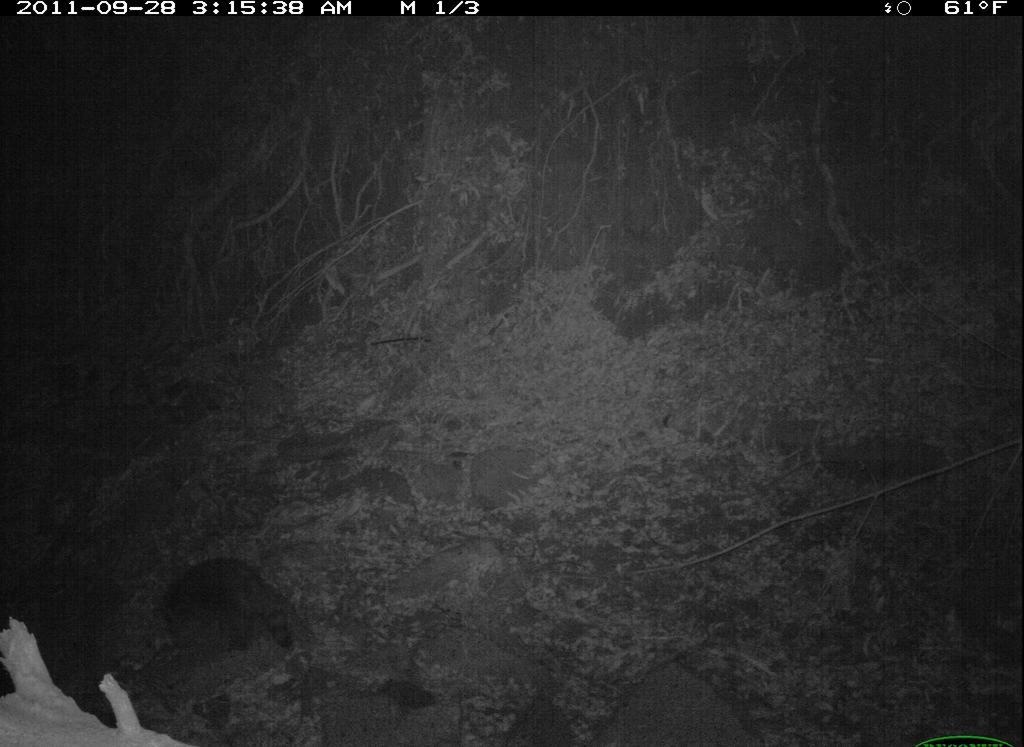raccoon: (154, 549, 306, 674)
